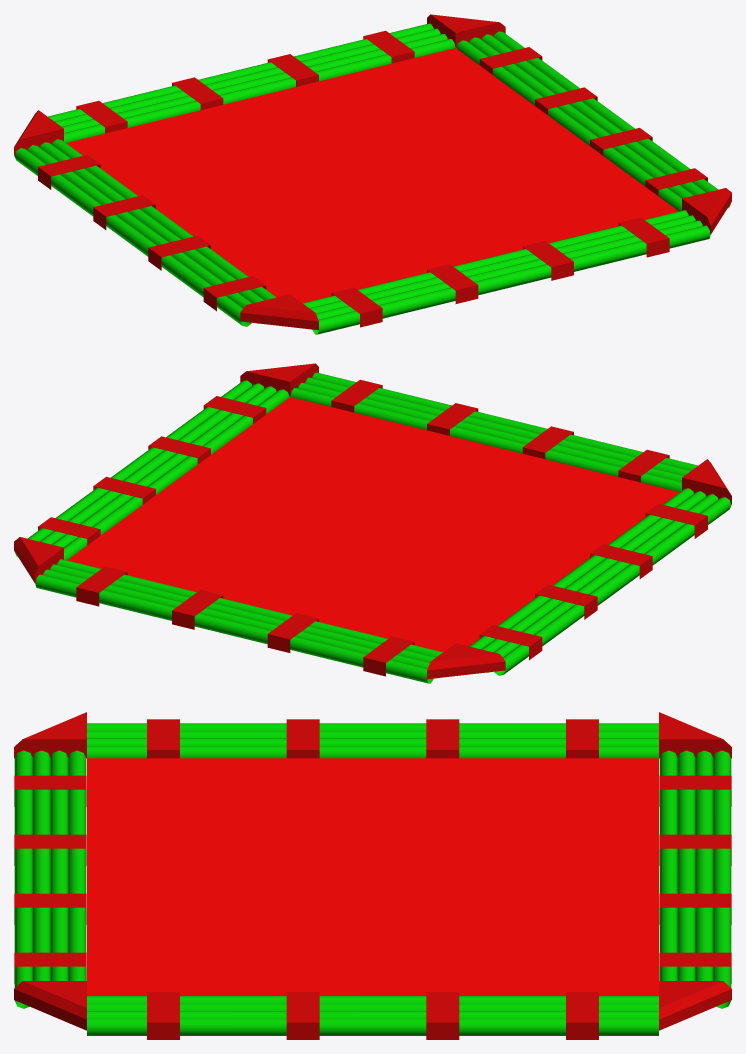
Rendered from square_wall_top_wires_01.FBX.
3 views of the same model, one above another, from view 1: azimuth 30°, elevation 25°; view 2: azimuth 150°, elevation 25°; view 3: azimuth 270°, elevation 25° (orthographic). The views are drawn at different scales.
Parts seen in each view (by area): view 1: square_wall_top_wires_01; view 2: square_wall_top_wires_01; view 3: square_wall_top_wires_01.
Part boxes in pixels (<box>): square_wall_top_wires_01: <box>14,14,731,334</box>; square_wall_top_wires_01: <box>14,363,731,683</box>; square_wall_top_wires_01: <box>14,712,731,1039</box>.
Bounding box in the file's own units: 251 × 10.91 × 251.
